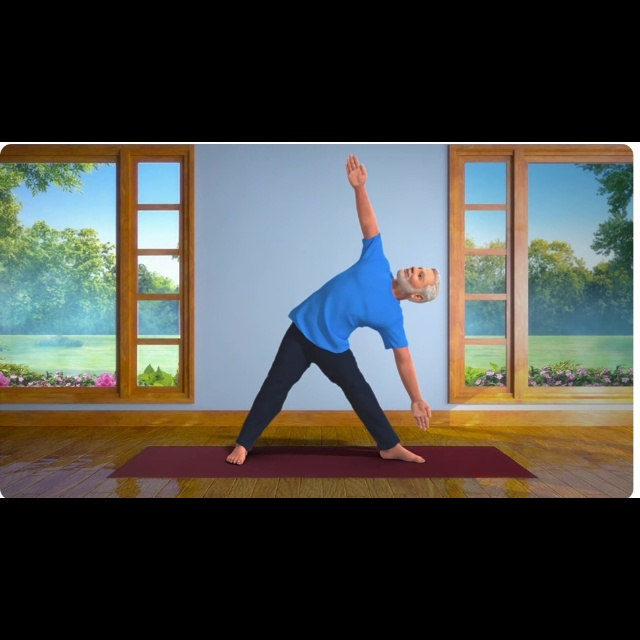Triangle_Pose: (214, 155, 464, 476)
